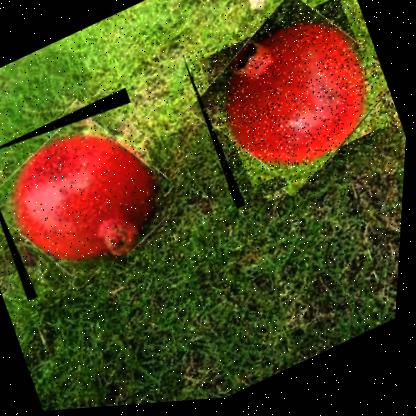pomegranate: (175, 0, 410, 216), (0, 84, 188, 304)
